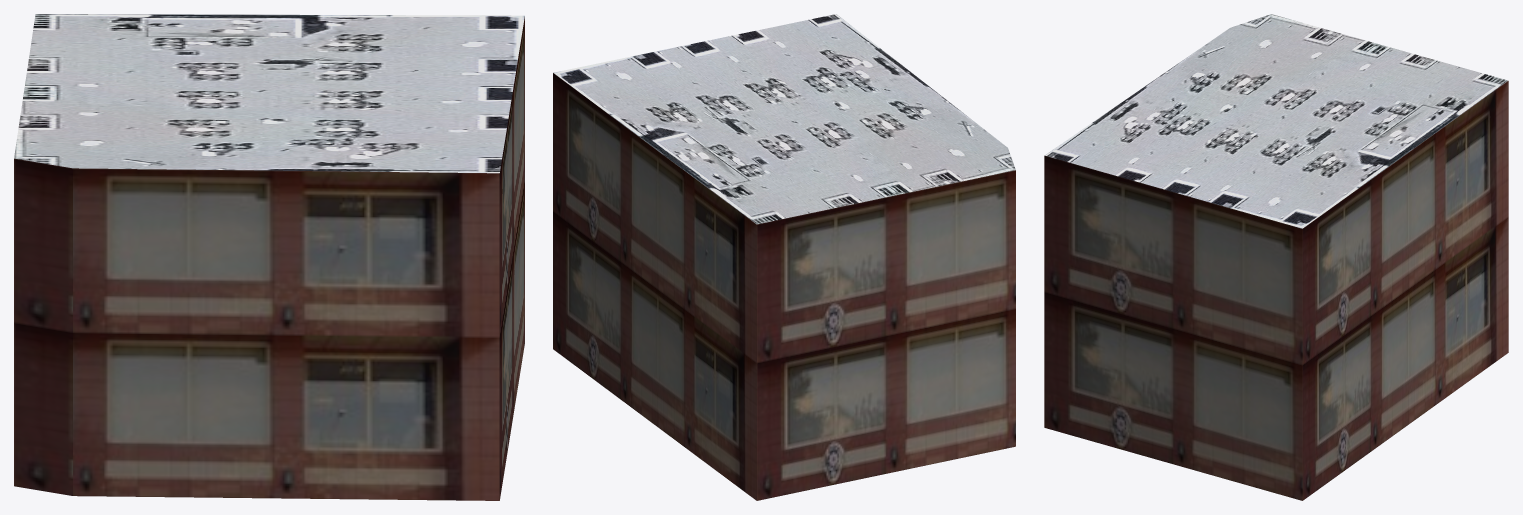
File: ResTex__4203.fbx
3 views of the same model, side by side, from view 1: azimuth 30°, elevation 25°; view 2: azimuth 150°, elevation 25°; view 3: azimuth 270°, elevation 25° (orthographic). The views are drawn at different scales.
Visible parts, largest first — view 1: CityEngineMaterial_13_m, CityEngineMaterial_2_m; view 2: CityEngineMaterial_13_m, CityEngineMaterial_2_m; view 3: CityEngineMaterial_13_m, CityEngineMaterial_2_m.
Part boxes in pixels (x1,y1,x2,y2): CityEngineMaterial_13_m: (14, 17, 524, 500); CityEngineMaterial_2_m: (14, 14, 524, 173); CityEngineMaterial_13_m: (553, 73, 1015, 500); CityEngineMaterial_2_m: (553, 14, 1015, 224); CityEngineMaterial_13_m: (1044, 81, 1508, 500); CityEngineMaterial_2_m: (1045, 14, 1507, 228).
Size of the model in its own units: 10.15 by 6 by 9.27.
2 materials, 2 textured.
